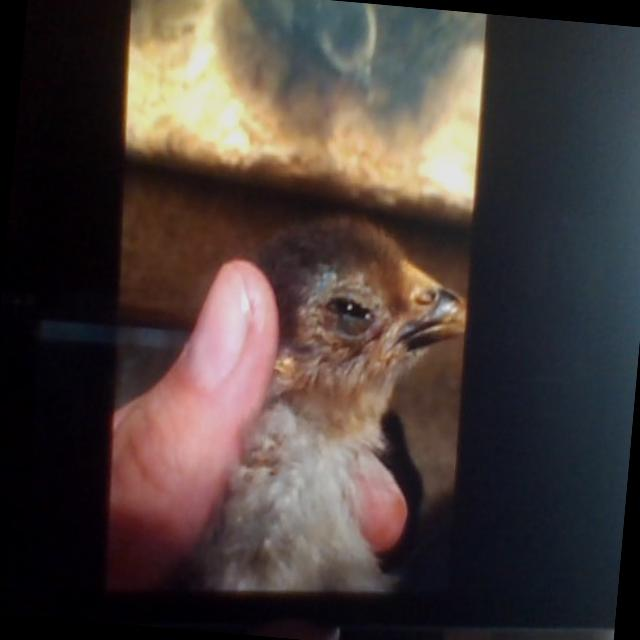Sick: (190, 201, 480, 604)
